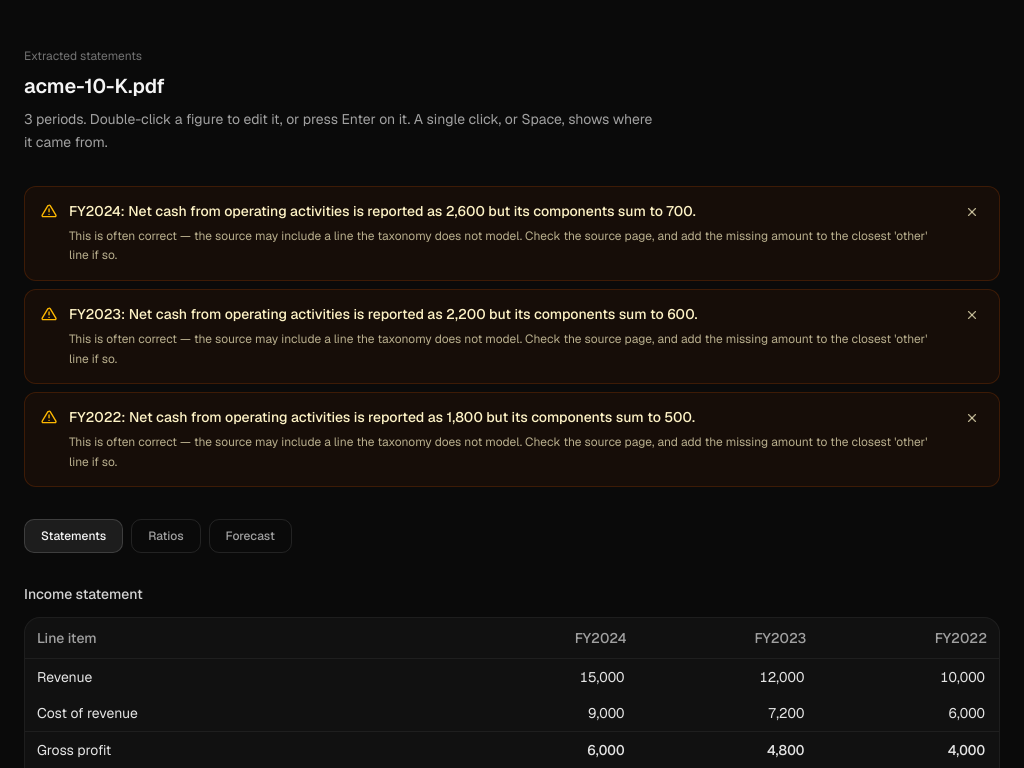
Test case: the ratios view › shows the DuPont decomposition
Click the tab "Ratios" at (166, 536), box [131,519,201,553]
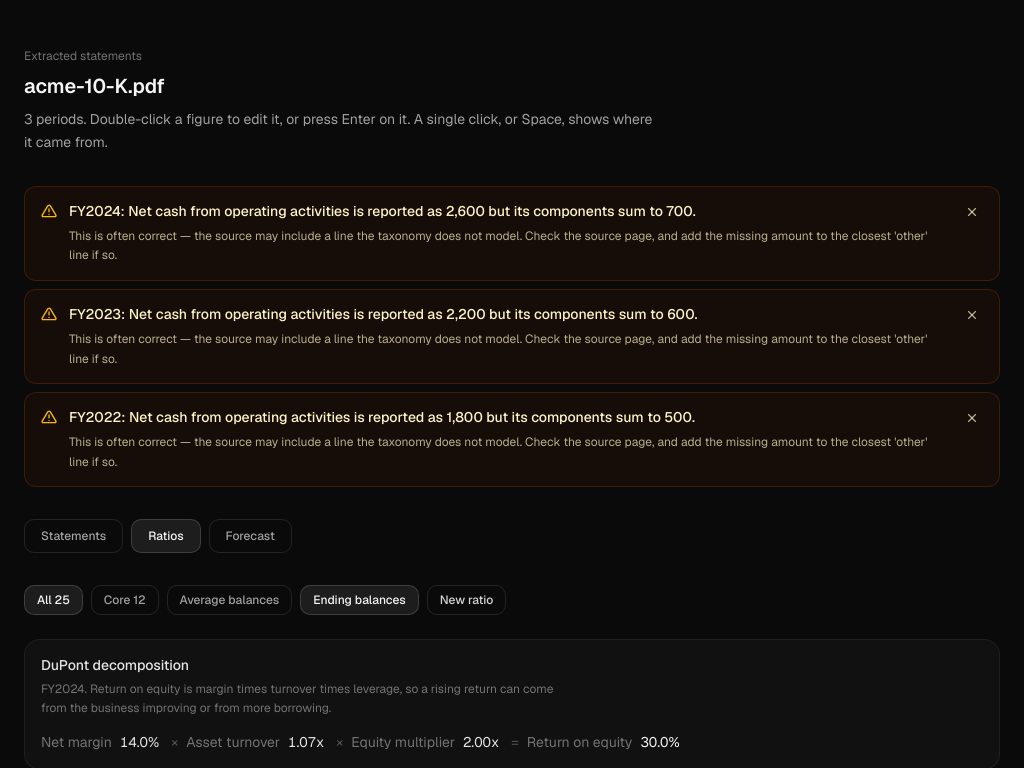
expect the heading "DuPont decomposition" is shown: met, box [41,656,189,674]
